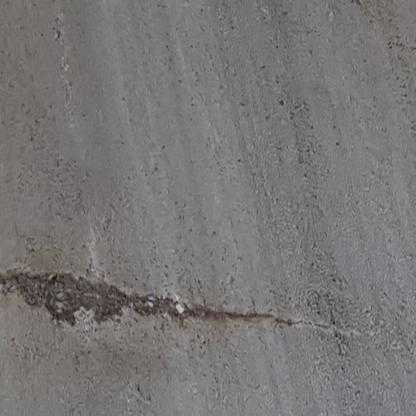crack: (4, 265, 331, 334)
